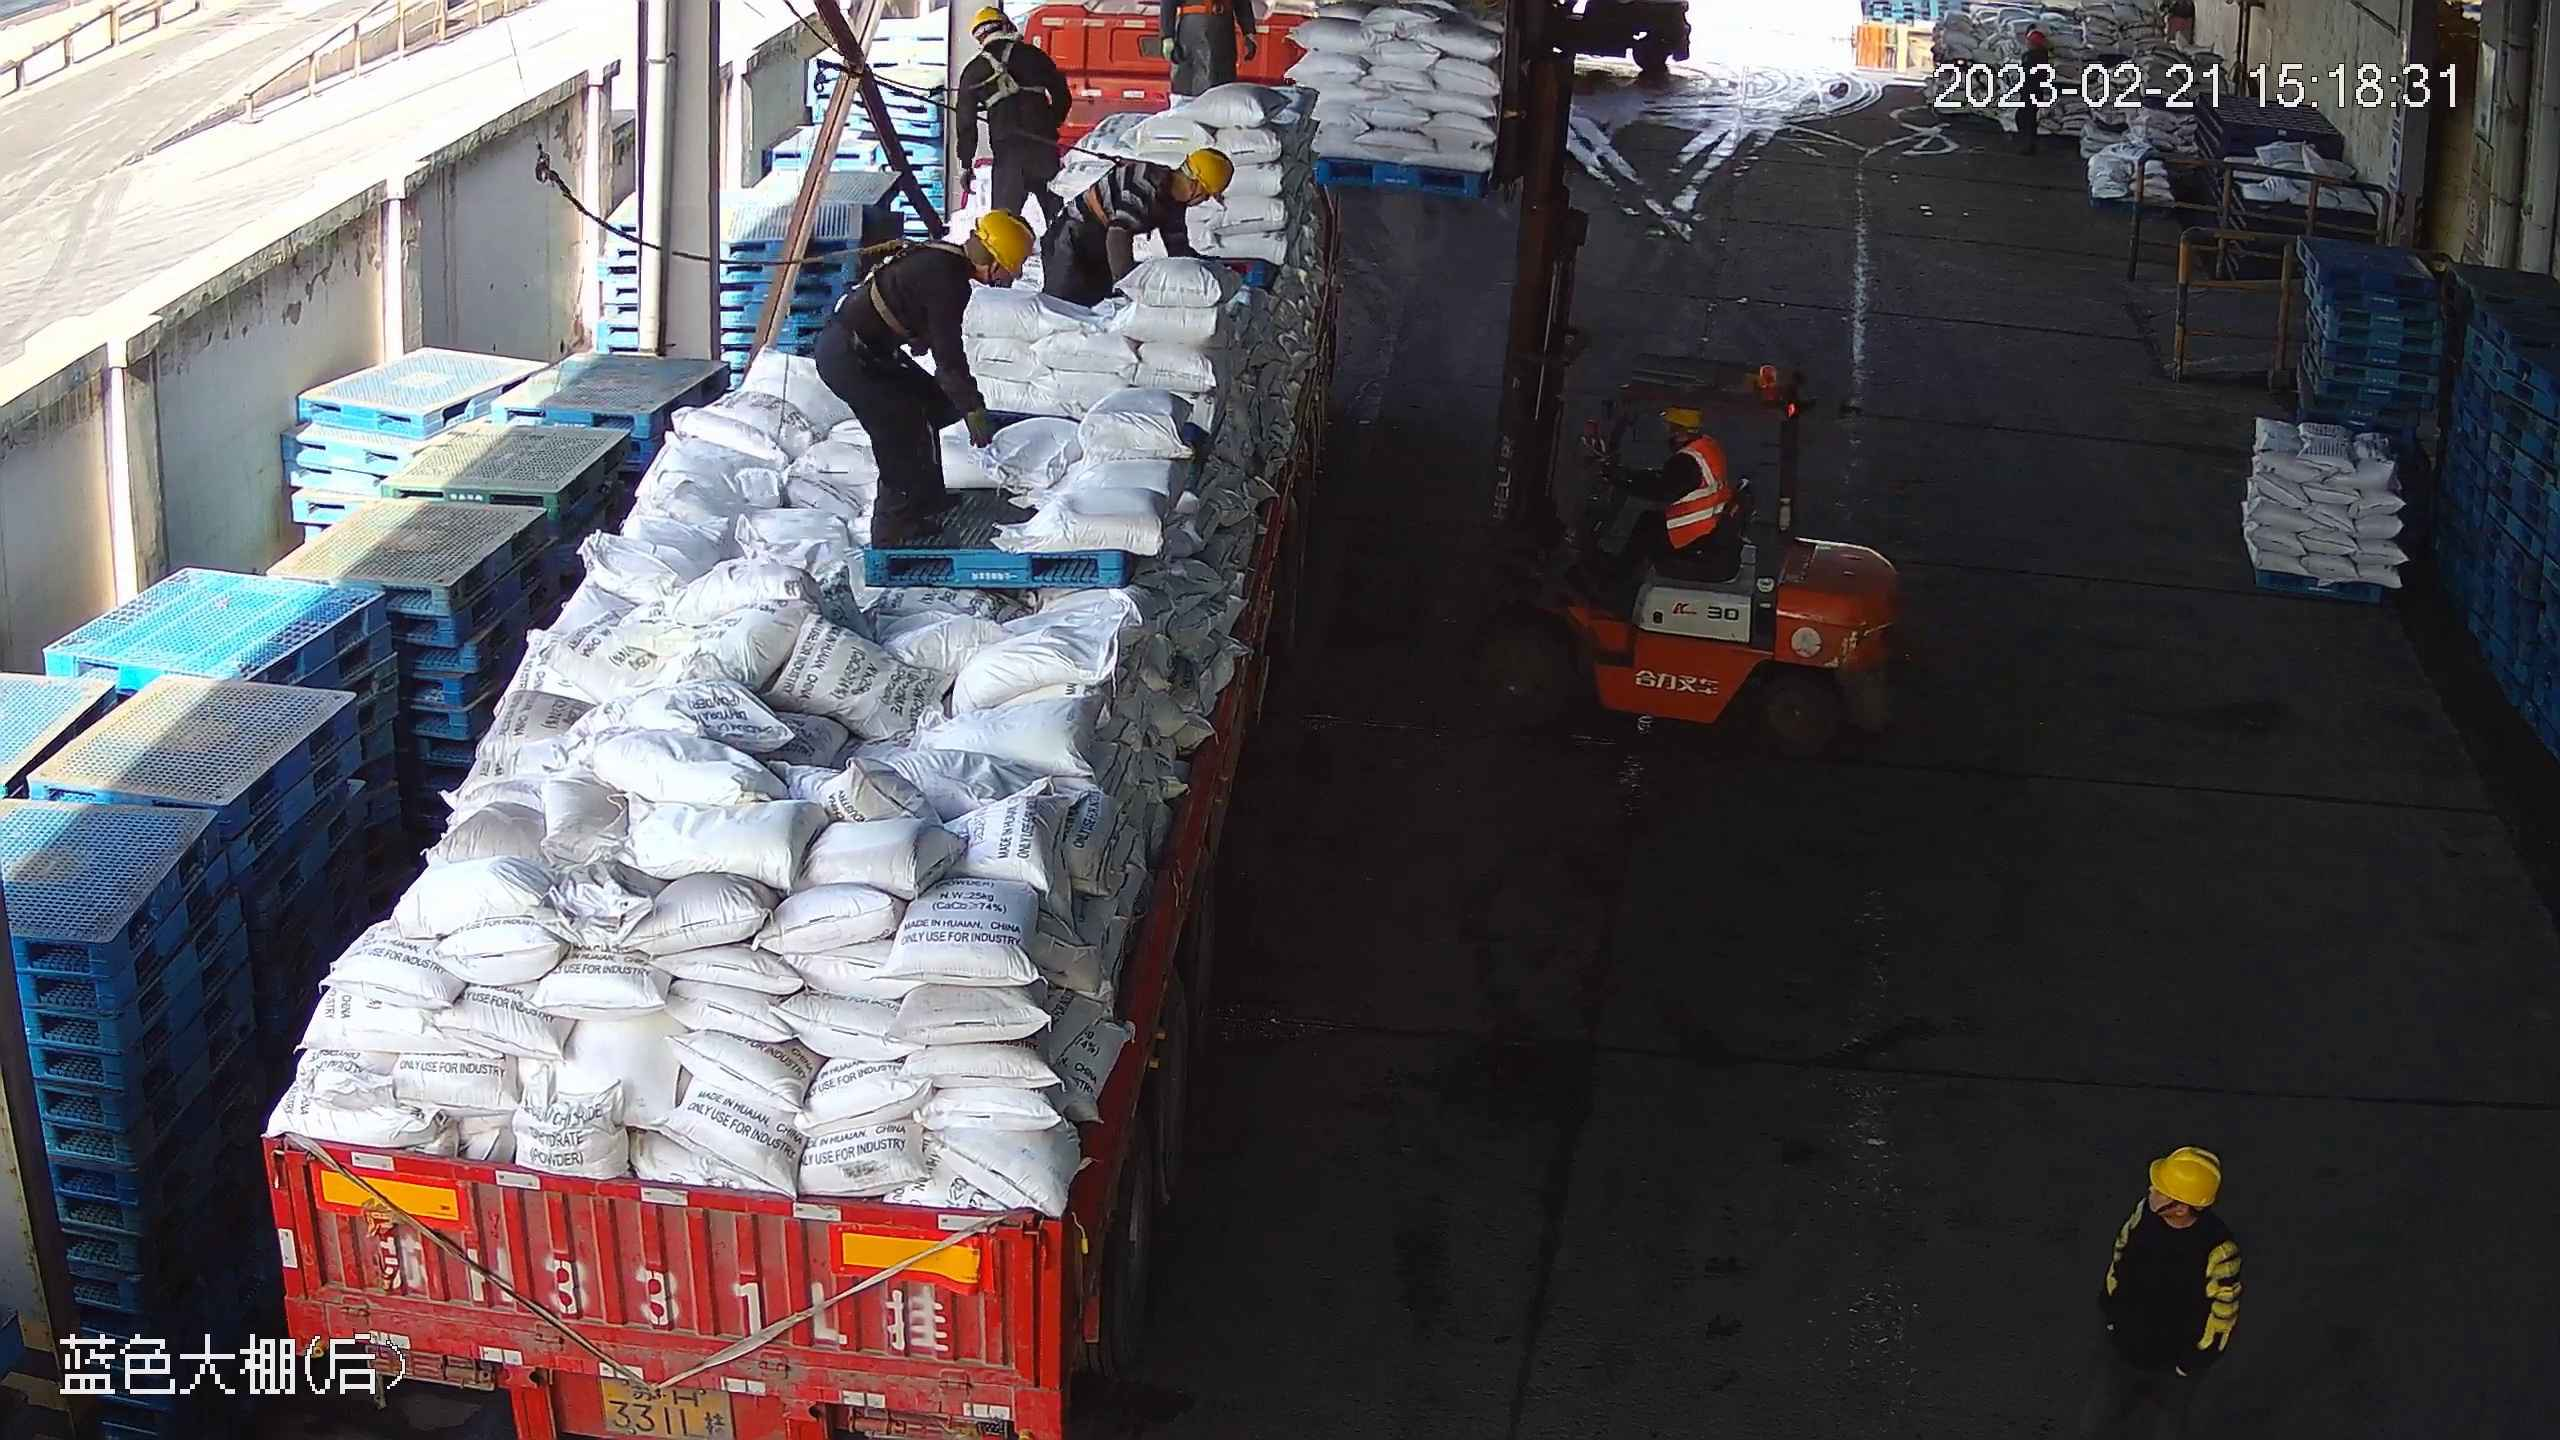belt: (870, 239, 968, 339), (1085, 151, 1170, 231), (980, 39, 1045, 110)
head: (901, 208, 1036, 339), (2111, 1144, 2242, 1275), (1126, 148, 1235, 234), (959, 5, 1059, 81), (1659, 407, 1728, 488)
helmet: (972, 208, 1037, 281), (2147, 1146, 2223, 1208), (1187, 148, 1237, 202), (971, 5, 1009, 37), (1660, 408, 1705, 430)
people: (814, 206, 1035, 547), (2097, 1143, 2242, 1440), (1038, 147, 1234, 308), (955, 6, 1073, 231), (1612, 406, 1733, 580)
truck: (259, 1, 1343, 1440)
